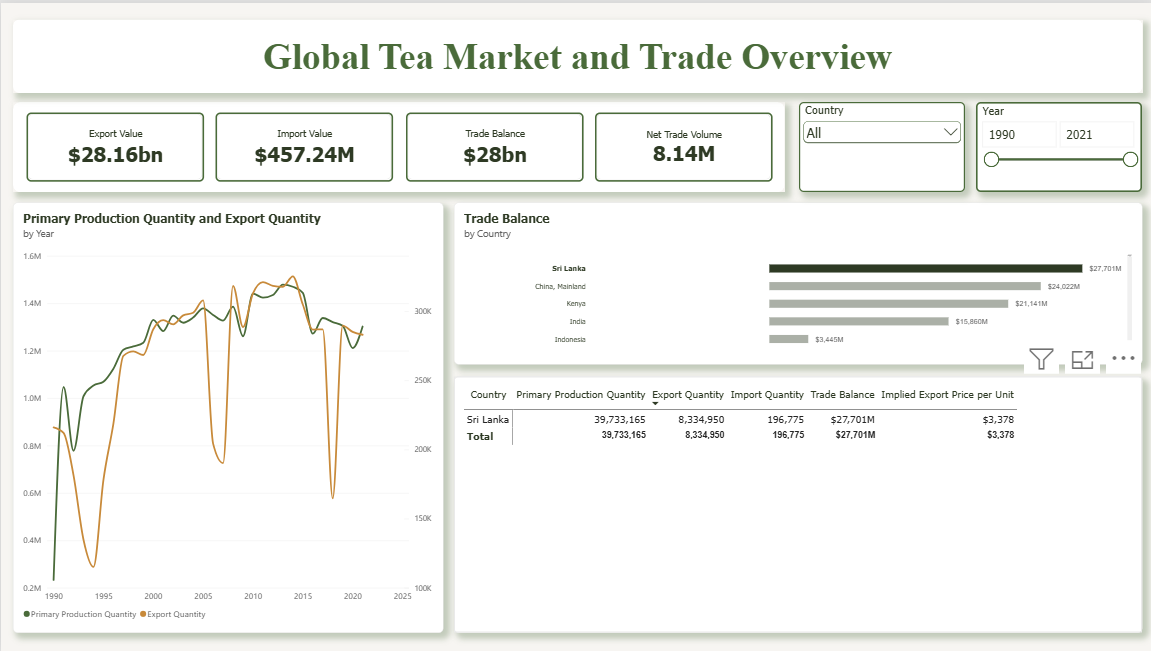

This screenshot's page, from the dashboard's own definition file:
{"tool":"powerbi","page":{"name":"Page 1","canvas":[1920,1080],"ordinal":0},"visuals":[{"type":"shape","box":[19.1,164.6,1286,150.3],"z":0},{"type":"lineChart","fields":{"Category":["Dim_Date.Year"],"Y":["_Measures.Primary Production Quantity"],"Y2":["_Measures.Export Quantity"]},"box":[20,332.5,717.5,717.5],"z":1000},{"type":"clusteredBarChart","fields":{"Category":["Dim_Country.Country"],"Y":["_Measures.Trade Balance"]},"box":[755,332.5,1147.5,270],"z":2000},{"type":"pivotTable","fields":{"Rows":["Dim_Country.Country"],"Values":["_Measures.Primary Production Quantity","_Measures.Export Quantity","_Measures.Import Quantity","_Measures.Trade Balance","_Measures.Implied Export Price per Unit"]},"box":[755,622.5,1147.5,427.5],"z":3000},{"type":"slicer","fields":{"Values":["Dim_Country.Country"]},"box":[1329,164.6,276.8,150.3],"z":4000},{"type":"slicer","fields":{"Values":["Dim_Date.Year"]},"box":[1624.8,164.6,276.8,150.3],"z":5000},{"type":"shape","box":[20,27.5,1882.5,122.5],"z":6000},{"type":"cardVisual","fields":{"Data":["_Measures.Export Value"]},"box":[42.5,182.5,296.2,115],"z":7000},{"type":"cardVisual","fields":{"Data":["_Measures.Import Value"]},"box":[356.2,182.5,296.2,115],"z":8000},{"type":"cardVisual","fields":{"Data":["_Measures.Trade Balance"]},"box":[673.8,182.5,296.2,115],"z":9000},{"type":"cardVisual","fields":{"Data":["_Measures.Net Trade Volume"]},"box":[990,182.5,296.2,115],"z":10000}]}

Visuals, with their boxes in screenshot pixels (x1, y1, x2, y2), scaled from the page's 1920x1080 canvas onto the 1151x651 screenshot:
shape: l=11, t=99, r=782, b=190
lineChart - Dim_Date.Year x _Measures.Primary Production Quantity: l=12, t=200, r=442, b=633
clusteredBarChart - Dim_Country.Country x _Measures.Trade Balance: l=453, t=200, r=1141, b=363
pivotTable - Dim_Country.Country x _Measures.Primary Production Quantity: l=453, t=375, r=1141, b=633
slicer - Dim_Country.Country: l=797, t=99, r=963, b=190
slicer - Dim_Date.Year: l=974, t=99, r=1140, b=190
shape: l=12, t=17, r=1141, b=90
cardVisual - _Measures.Export Value: l=25, t=110, r=203, b=179
cardVisual - _Measures.Import Value: l=214, t=110, r=391, b=179
cardVisual - _Measures.Trade Balance: l=404, t=110, r=581, b=179
cardVisual - _Measures.Net Trade Volume: l=593, t=110, r=771, b=179
